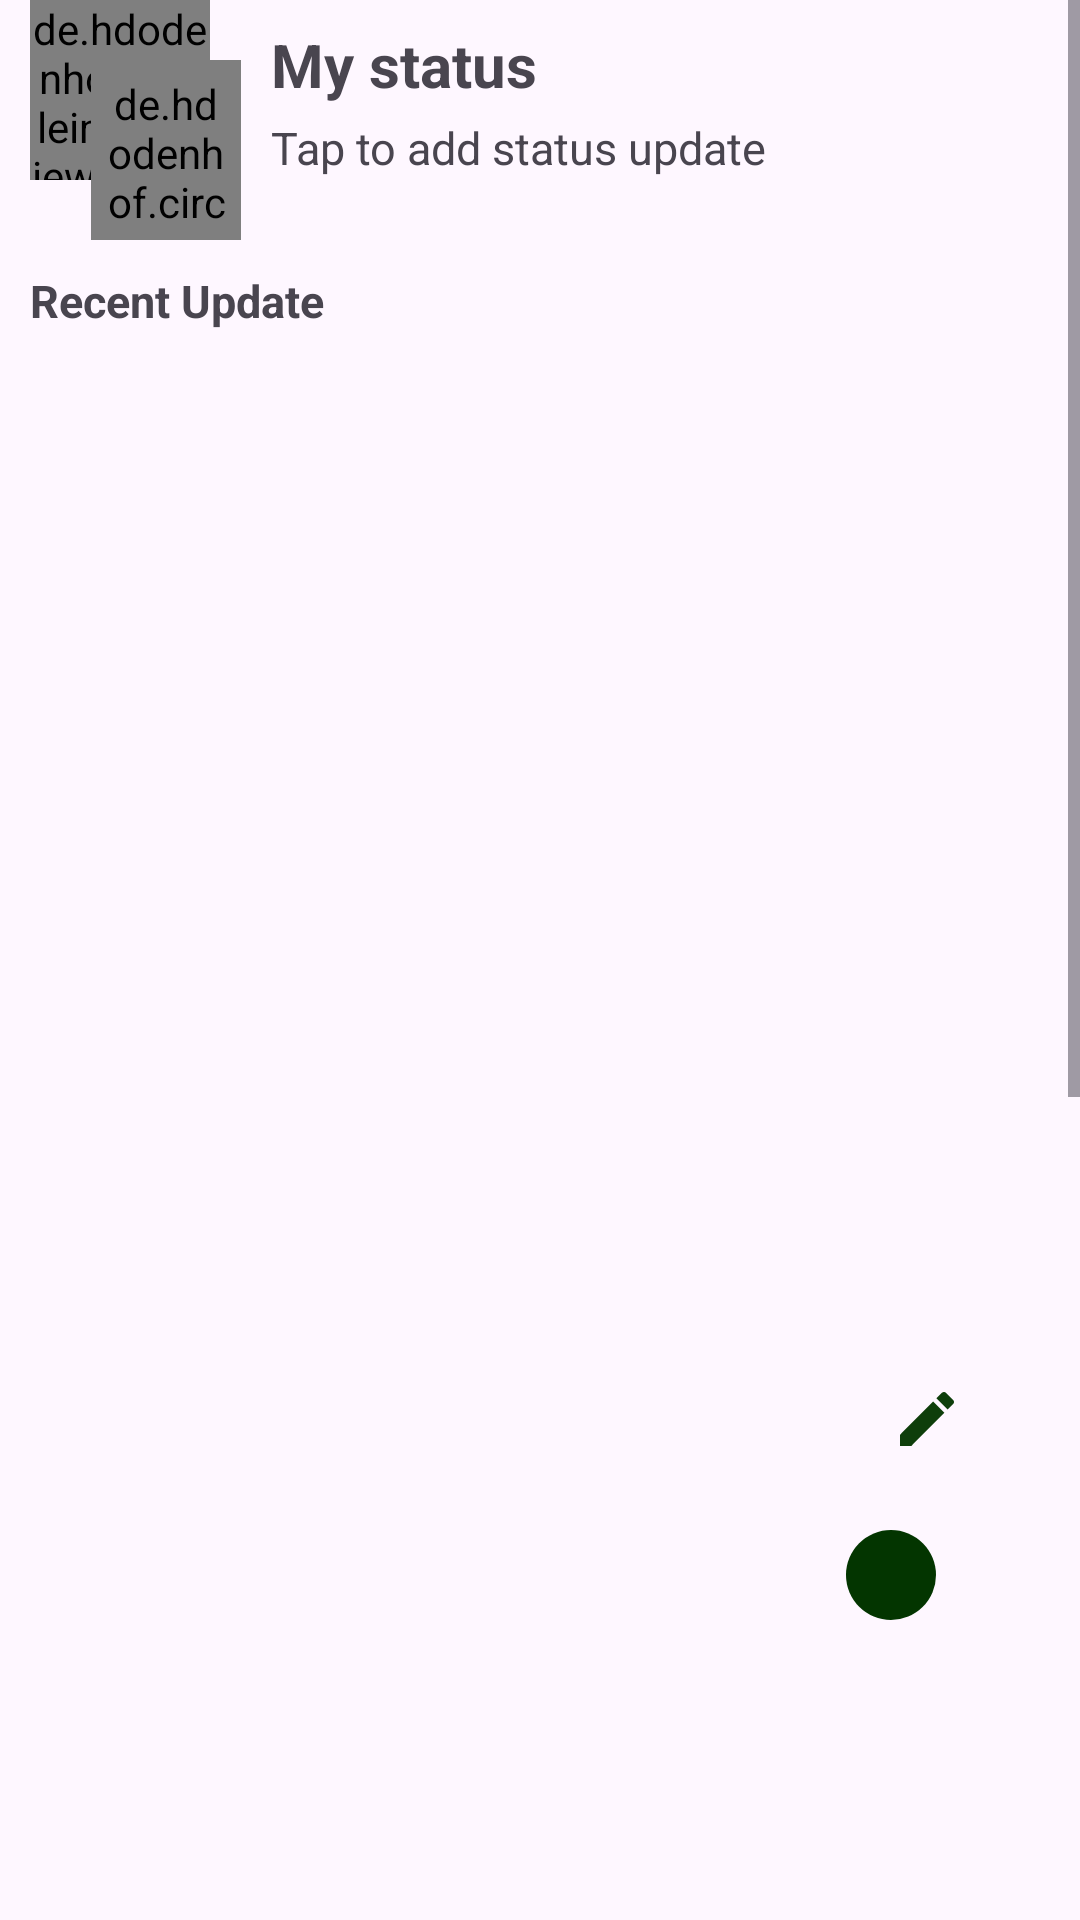

Screen size 1080×1920. Icon name, then its center in pixels as point (x, y):
edit: point (927, 1419)
